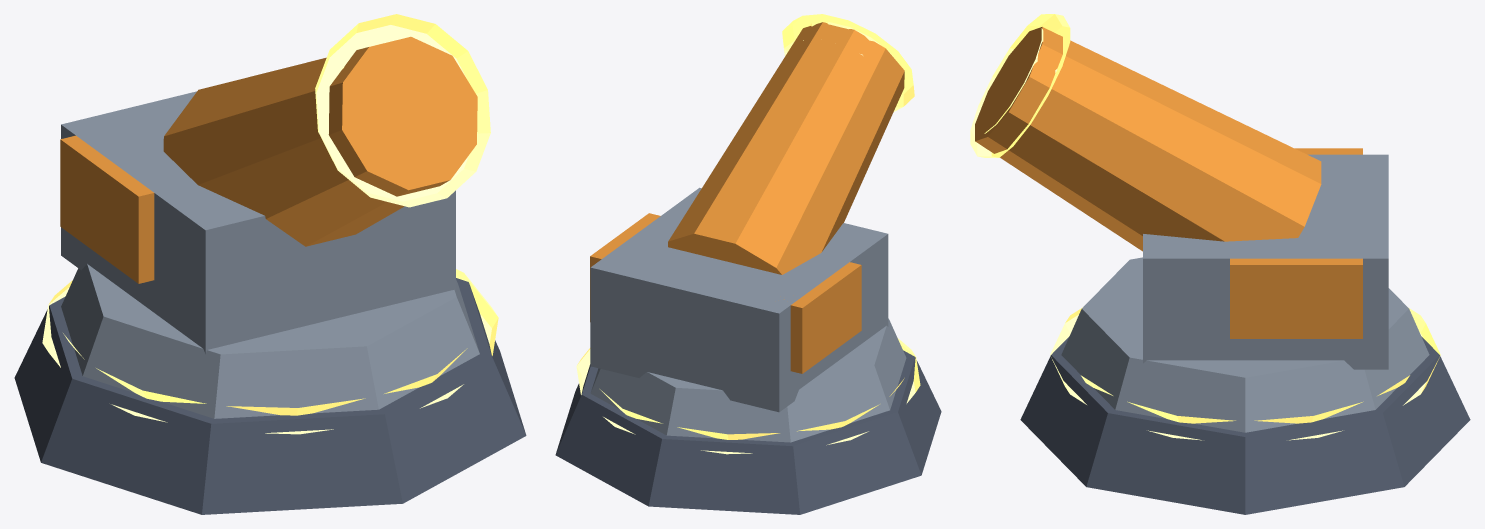
Rendered from cannon.glb.
3 renders of one model, left to right at view 1: azimuth 30°, elevation 25°; view 2: azimuth 150°, elevation 25°; view 3: azimuth 270°, elevation 25°, orthographic. The views are drawn at different scales.
Bounding box in the file's own units: 0.88 × 0.856 × 0.9775.
